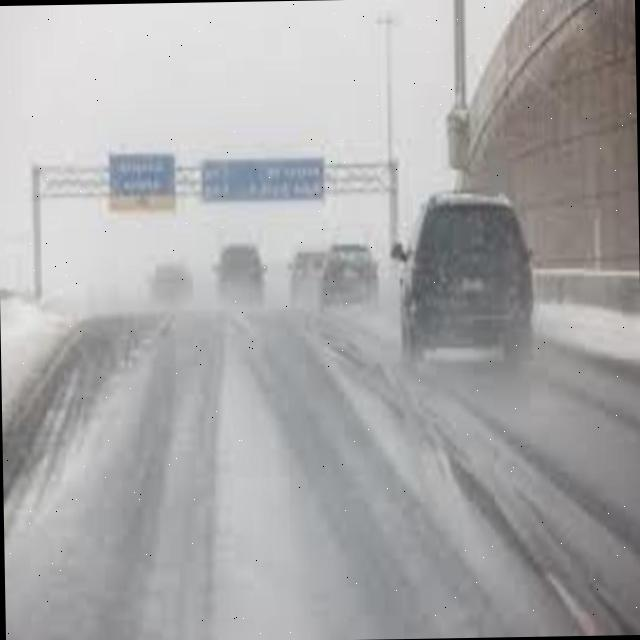car: (398, 193, 536, 369), (210, 240, 269, 312), (314, 244, 375, 309), (282, 250, 327, 300)
